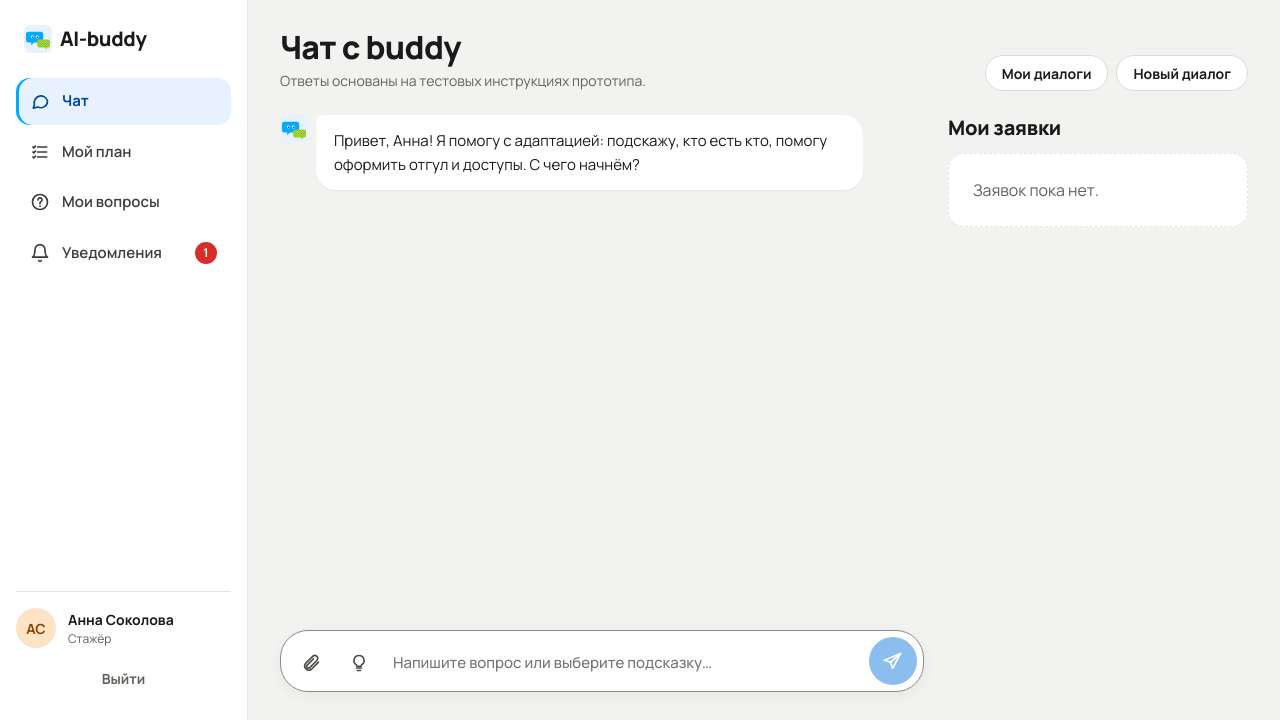
scripted answers › S4_R02: "Какие доступы мне нужны?" lists statuses and proposes the first missing access
Type "Какие доступы мне нужны?" into the dropdown named "Сообщение".
click(625, 664); type("Какие доступы мне нужны?")  # box [385,642,865,685]
Then press Enter
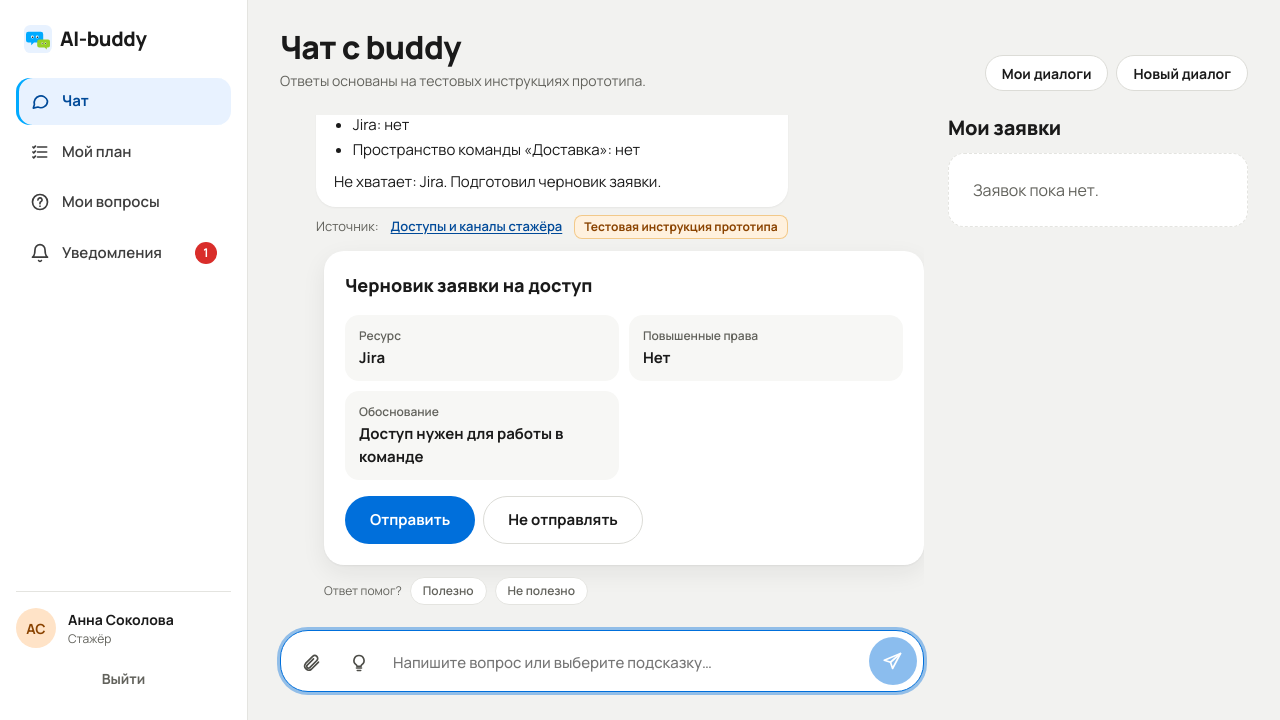
Expected: the list item "Jira: нет" is shown, [353,115,409,135]
Expected: the list item "Пространство команды «Доставка»: нет" is shown, [353,139,640,160]
Expected: the heading "Черновик заявки на доступ" is shown, [345,273,592,297]
